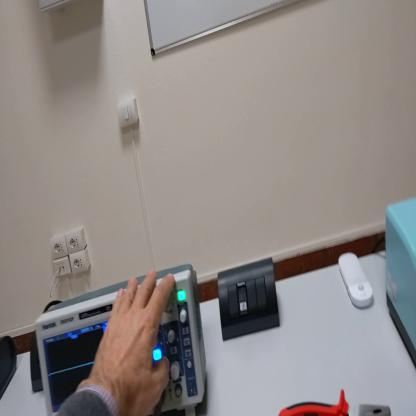hand: (93, 271, 174, 413)
oscilloscope: (38, 266, 209, 416)
pliers: (280, 389, 393, 414)
socket: (2, 330, 18, 400), (29, 333, 44, 393)
welder station: (384, 191, 416, 368)
